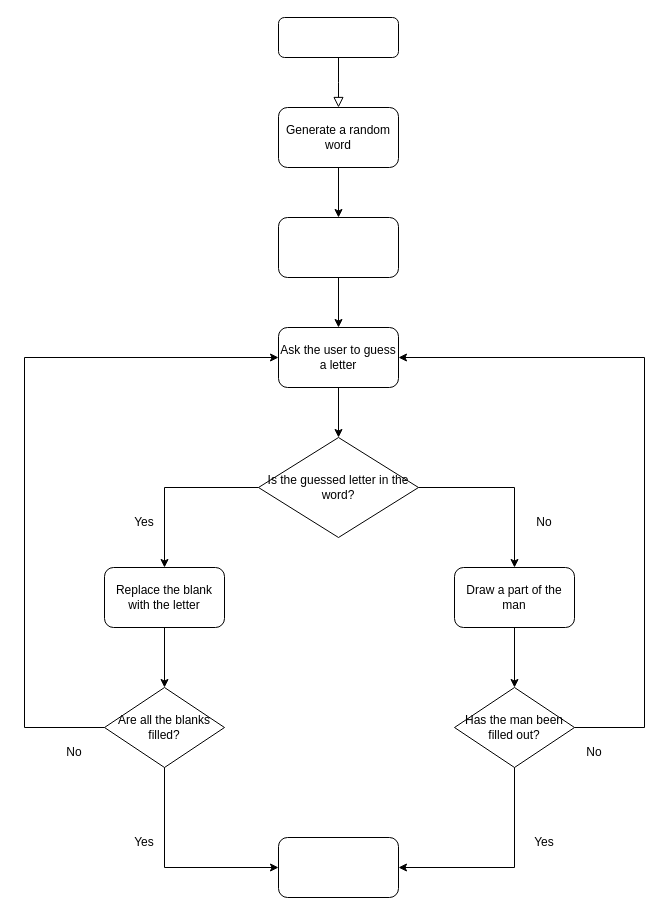
This 670x915 diagram has some shape labels left out. The shapes that lost their labels are listed below. From the top down, each one's centre as x and y in pixels, then its label:
point (338, 37): START
point (338, 247): Generate as many blanks as letters in word
point (338, 867): Game Over
